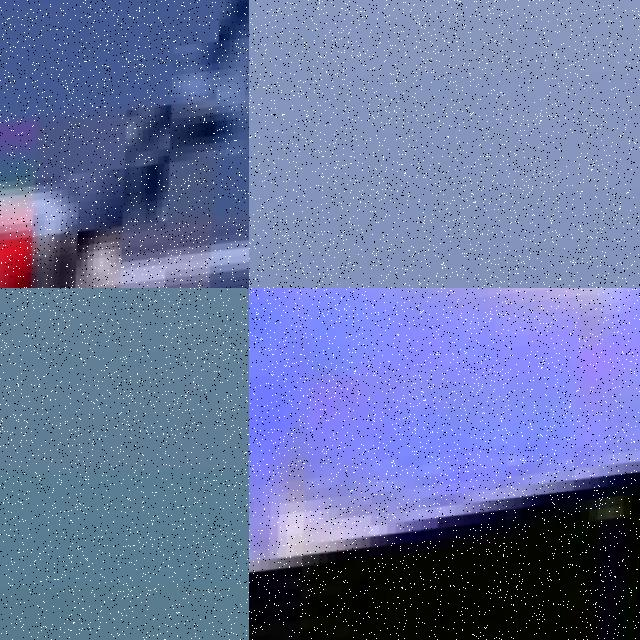drone: (249, 288, 640, 640), (0, 0, 249, 288)
